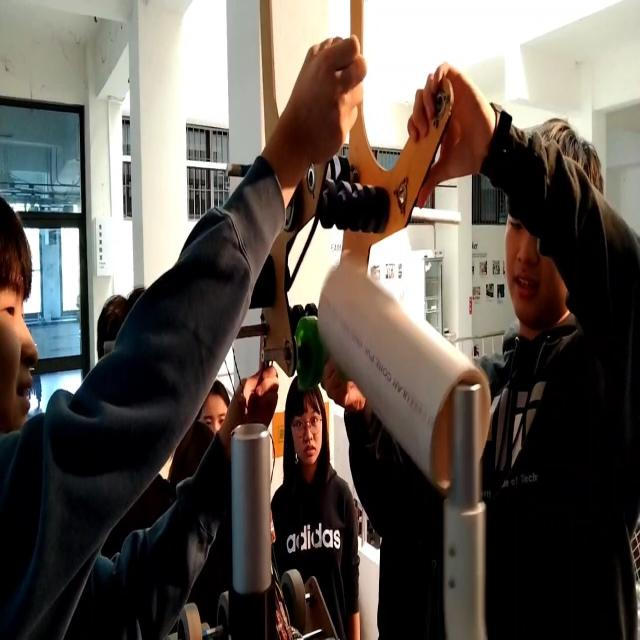CORAL: (321, 247, 492, 498)
